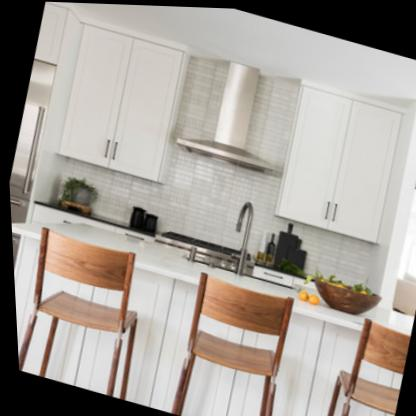Cabinet: (267, 73, 414, 245), (48, 17, 197, 186)
Dining Table: (8, 192, 414, 416)
